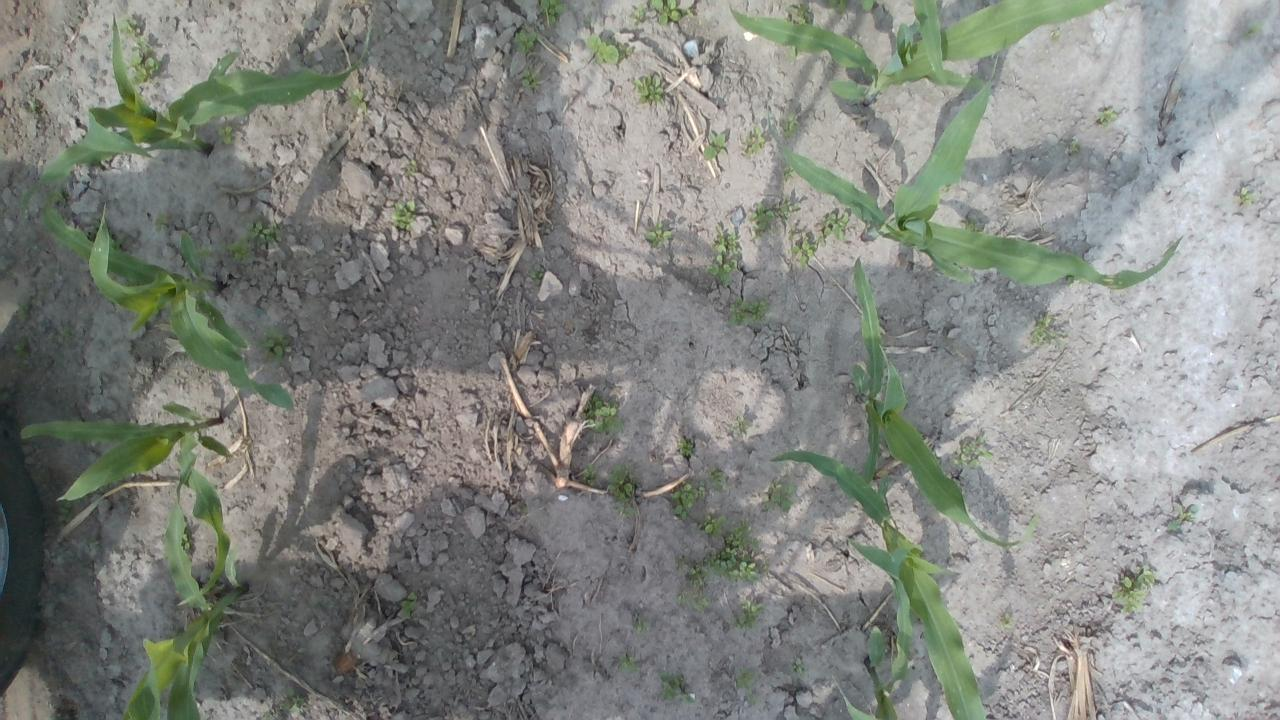Maize: (786, 81, 1182, 290), (24, 10, 369, 209), (770, 446, 990, 720), (843, 257, 1037, 550), (38, 204, 294, 412), (19, 395, 227, 606), (727, 0, 1114, 111), (123, 463, 246, 720), (836, 576, 914, 720)
Weeds: (704, 518, 769, 584), (706, 224, 742, 288), (1110, 568, 1154, 615), (606, 463, 642, 519), (226, 222, 275, 263), (581, 390, 626, 434), (751, 198, 800, 236), (128, 37, 161, 85), (1030, 313, 1070, 351), (726, 294, 768, 330), (951, 432, 992, 468), (255, 325, 290, 367), (634, 0, 692, 25), (656, 668, 694, 706), (588, 34, 632, 66), (670, 480, 704, 520), (760, 479, 794, 513), (633, 72, 664, 104), (815, 212, 849, 241), (734, 597, 761, 633), (1168, 502, 1198, 532), (791, 239, 818, 272), (644, 222, 674, 250), (389, 198, 416, 229), (702, 130, 728, 160), (700, 514, 729, 538), (784, 2, 814, 25), (744, 126, 768, 154), (538, 0, 566, 24), (278, 687, 305, 711), (732, 670, 756, 694), (516, 29, 538, 55), (400, 590, 420, 618), (348, 88, 368, 114), (581, 463, 601, 488), (782, 112, 801, 138), (520, 68, 542, 90), (117, 16, 140, 36), (692, 590, 711, 614), (1096, 107, 1118, 127), (1240, 20, 1262, 40), (1238, 186, 1256, 210), (528, 264, 546, 288), (708, 466, 726, 490), (685, 567, 704, 588), (614, 654, 637, 671), (676, 436, 694, 456), (730, 416, 750, 433), (218, 126, 234, 146), (786, 44, 800, 66), (788, 656, 806, 672), (52, 190, 71, 205), (110, 231, 126, 248), (633, 616, 648, 634), (823, 0, 847, 11), (154, 214, 168, 232), (783, 164, 799, 179), (1000, 613, 1014, 630), (18, 302, 30, 321), (180, 530, 190, 552), (676, 592, 689, 608), (858, 0, 876, 11), (62, 318, 72, 336), (197, 245, 209, 258), (1068, 140, 1079, 154), (1049, 30, 1063, 40), (28, 103, 38, 114), (264, 712, 274, 720), (750, 696, 758, 706)
